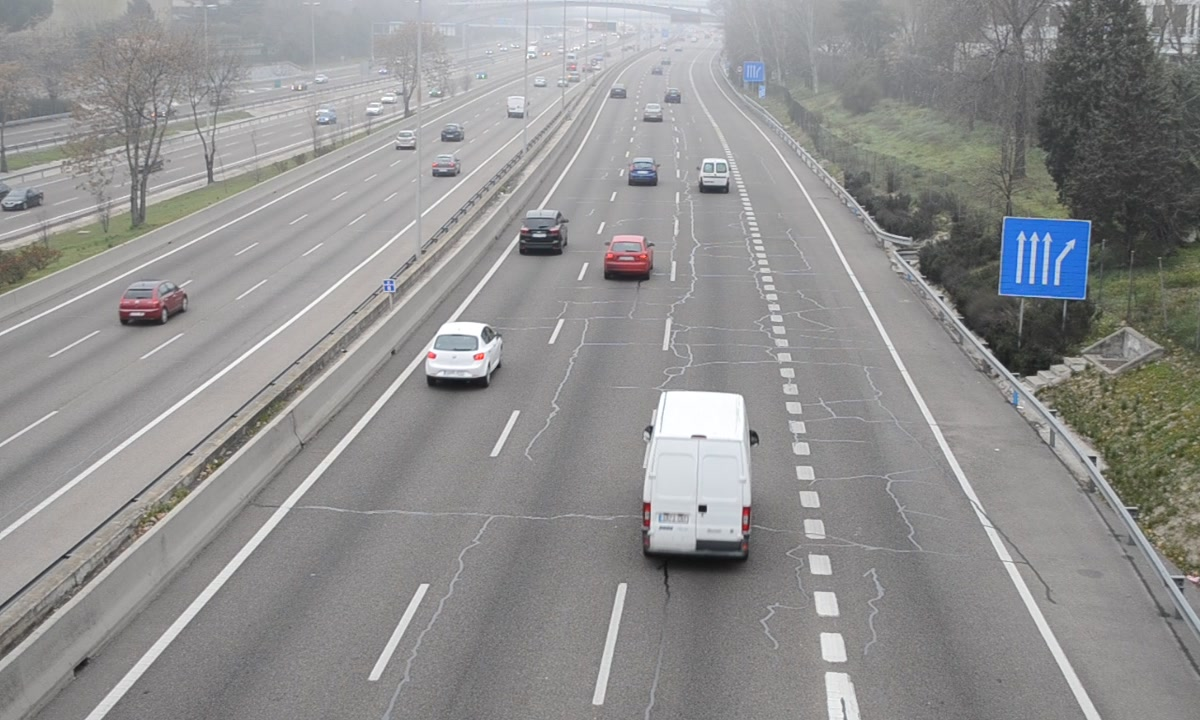car: (423, 321, 503, 380), (518, 210, 567, 257), (604, 234, 651, 277), (627, 157, 659, 187)
van: (644, 393, 751, 561), (699, 158, 732, 194)
